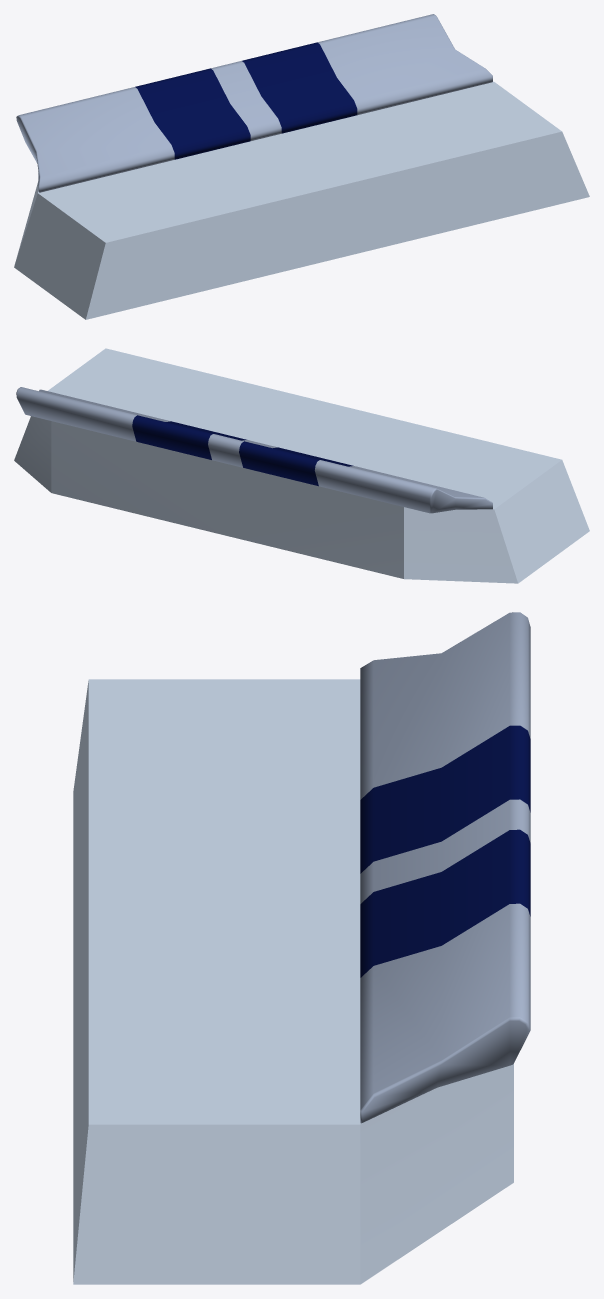
File: Spoiler1.fbx
3 views of the same model, one above another, from view 1: azimuth 30°, elevation 25°; view 2: azimuth 150°, elevation 25°; view 3: azimuth 270°, elevation 25° (orthographic). The views are drawn at different scales.
Parts seen in each view (by area): view 1: Spoiler1; view 2: Spoiler1; view 3: Spoiler1.
Part boxes in pixels (x1=…): Spoiler1: x1=14, y1=14, x2=589, y2=319; Spoiler1: x1=14, y1=348, x2=589, y2=583; Spoiler1: x1=73, y1=612, x2=530, y2=1284.
Bounding box in the file's own units: 2.43 × 0.5161 × 0.9549.
